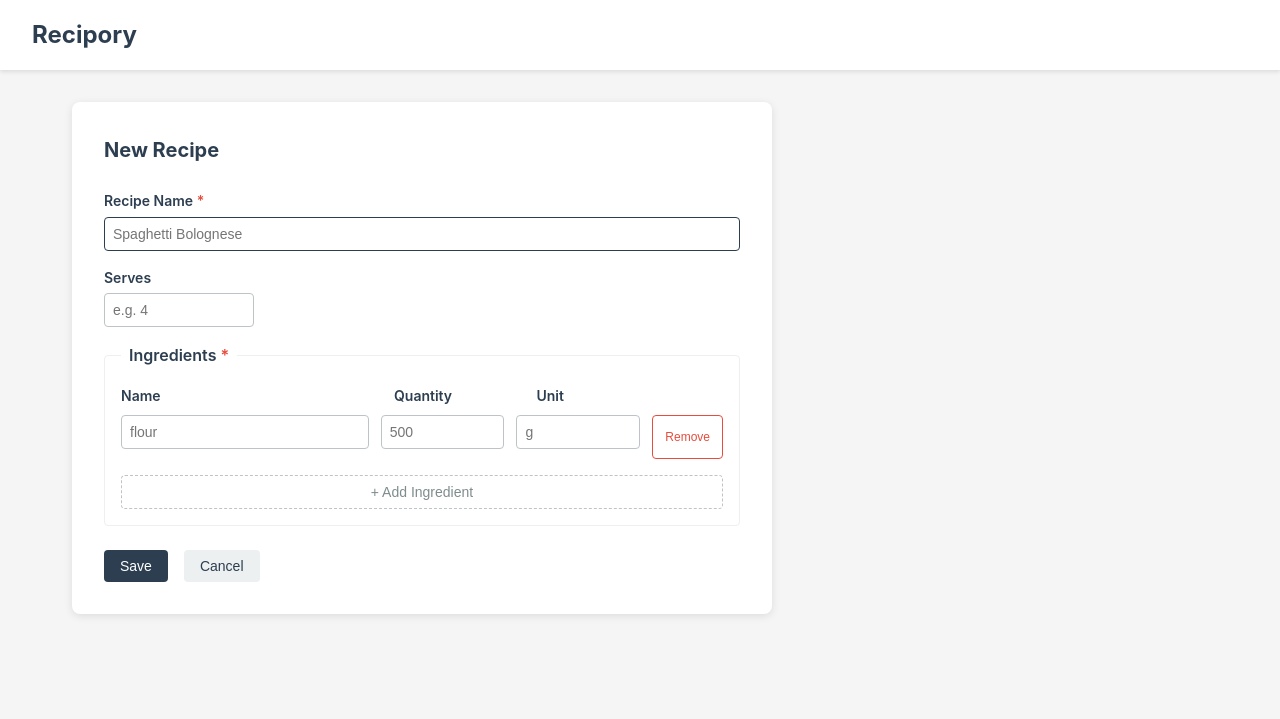
Test: App › Add Recipe › shows validation errors when submitting empty form
This screenshot has width=1280, height=719.
Expected: the field labelled "Recipe Name" is shown, [104,217,740,251]
Click the button "Save" at (136, 566), box [104,550,168,582]
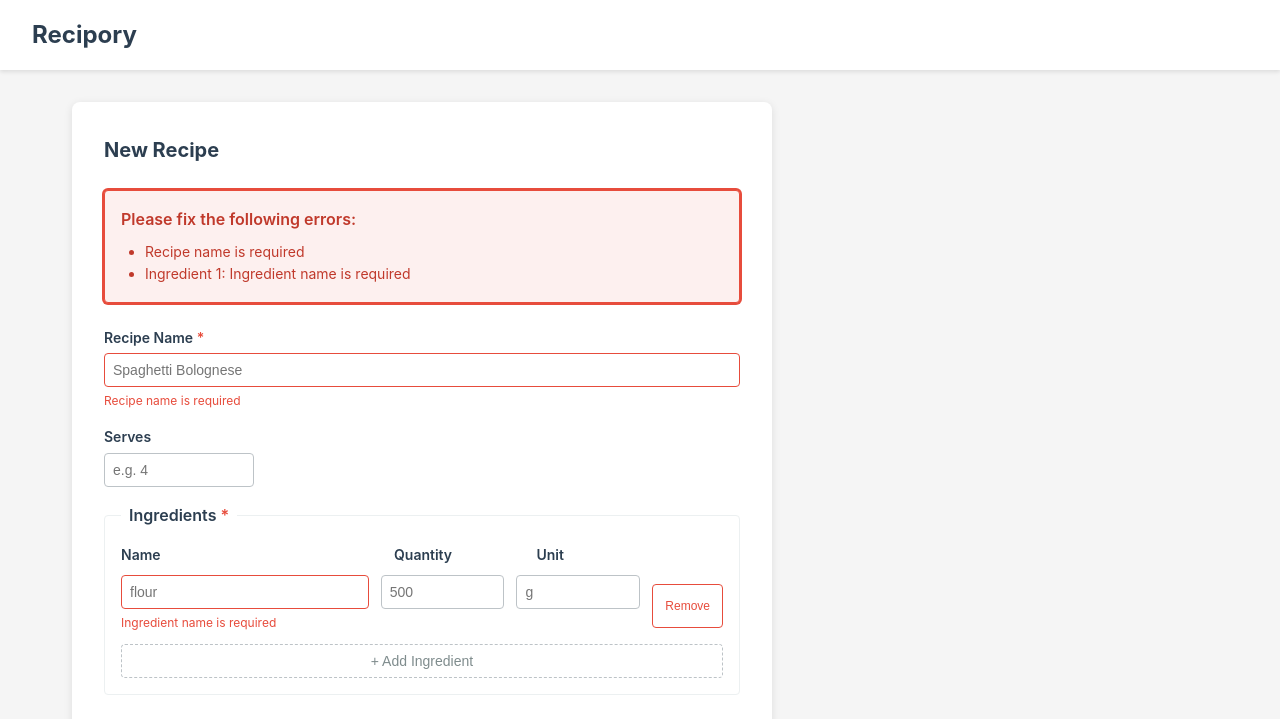
Expected: the message is shown, [104,190,740,303]
Expected: the text "Please fix the following errors:" is shown, [121,209,356,229]
